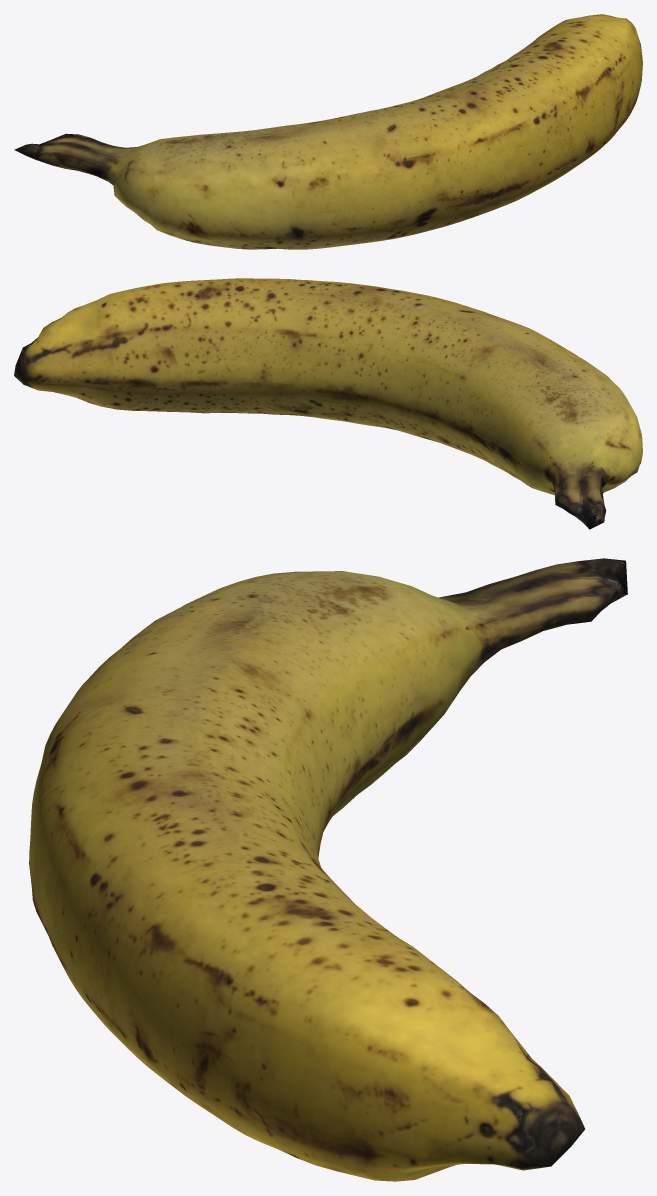
Rendered from export_banana.obj.
3 views of the same model, one above another, from view 1: azimuth 30°, elevation 25°; view 2: azimuth 150°, elevation 25°; view 3: azimuth 270°, elevation 25° (orthographic). The views are drawn at different scales.
Visible parts, largest first — view 1: banana_mesh_quad.001; view 2: banana_mesh_quad.001; view 3: banana_mesh_quad.001.
Boxes of the visible parts, x1=… form: banana_mesh_quad.001: x1=14, y1=14, x2=642, y2=249; banana_mesh_quad.001: x1=14, y1=278, x2=642, y2=529; banana_mesh_quad.001: x1=29, y1=558, x2=627, y2=1181.
Size of the model in its own units: 0.0483 by 0.00911 by 0.0214.
Materials: 1 (1 with a texture image).
